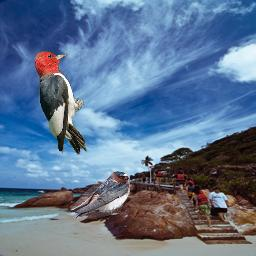Swallow: (70, 171, 130, 219)
Woodpecker: (35, 50, 88, 155)
